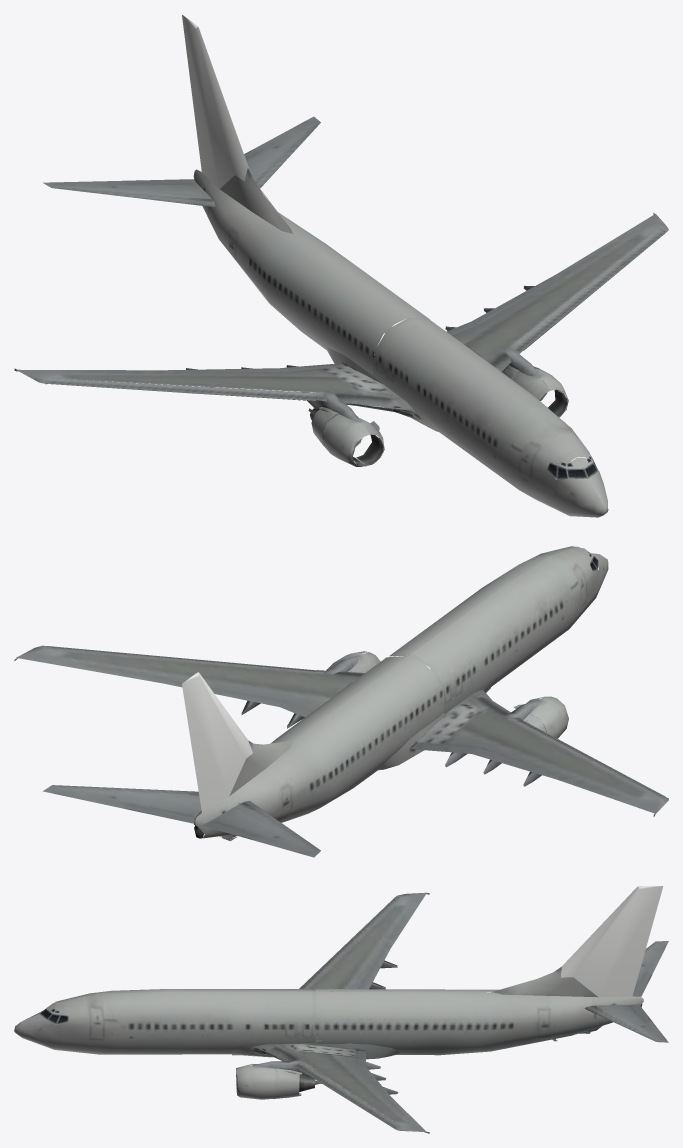
The model's file is airliner_737_lod1.glb.
3 renders of one model, top to bottom at view 1: azimuth 30°, elevation 25°; view 2: azimuth 150°, elevation 25°; view 3: azimuth 270°, elevation 25°, orthographic. The views are drawn at different scales.
Visible parts, largest first — view 1: LOD1; view 2: LOD1; view 3: LOD1.
Part boxes in pixels (x1,y1,x2,y2): LOD1: [14, 15, 668, 517]; LOD1: [14, 546, 668, 857]; LOD1: [14, 886, 668, 1133].
Size of the model in its own units: 34.2 by 11.73 by 39.5.
Materials: 3 (2 with a texture image).
